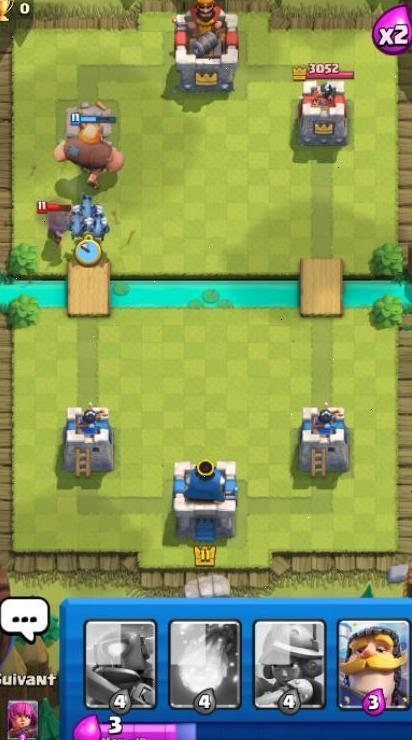enemy_musketeer: (33, 199, 75, 245)
player_giant: (52, 114, 128, 179)
player_minions: (86, 207, 113, 239), (66, 204, 92, 237)
